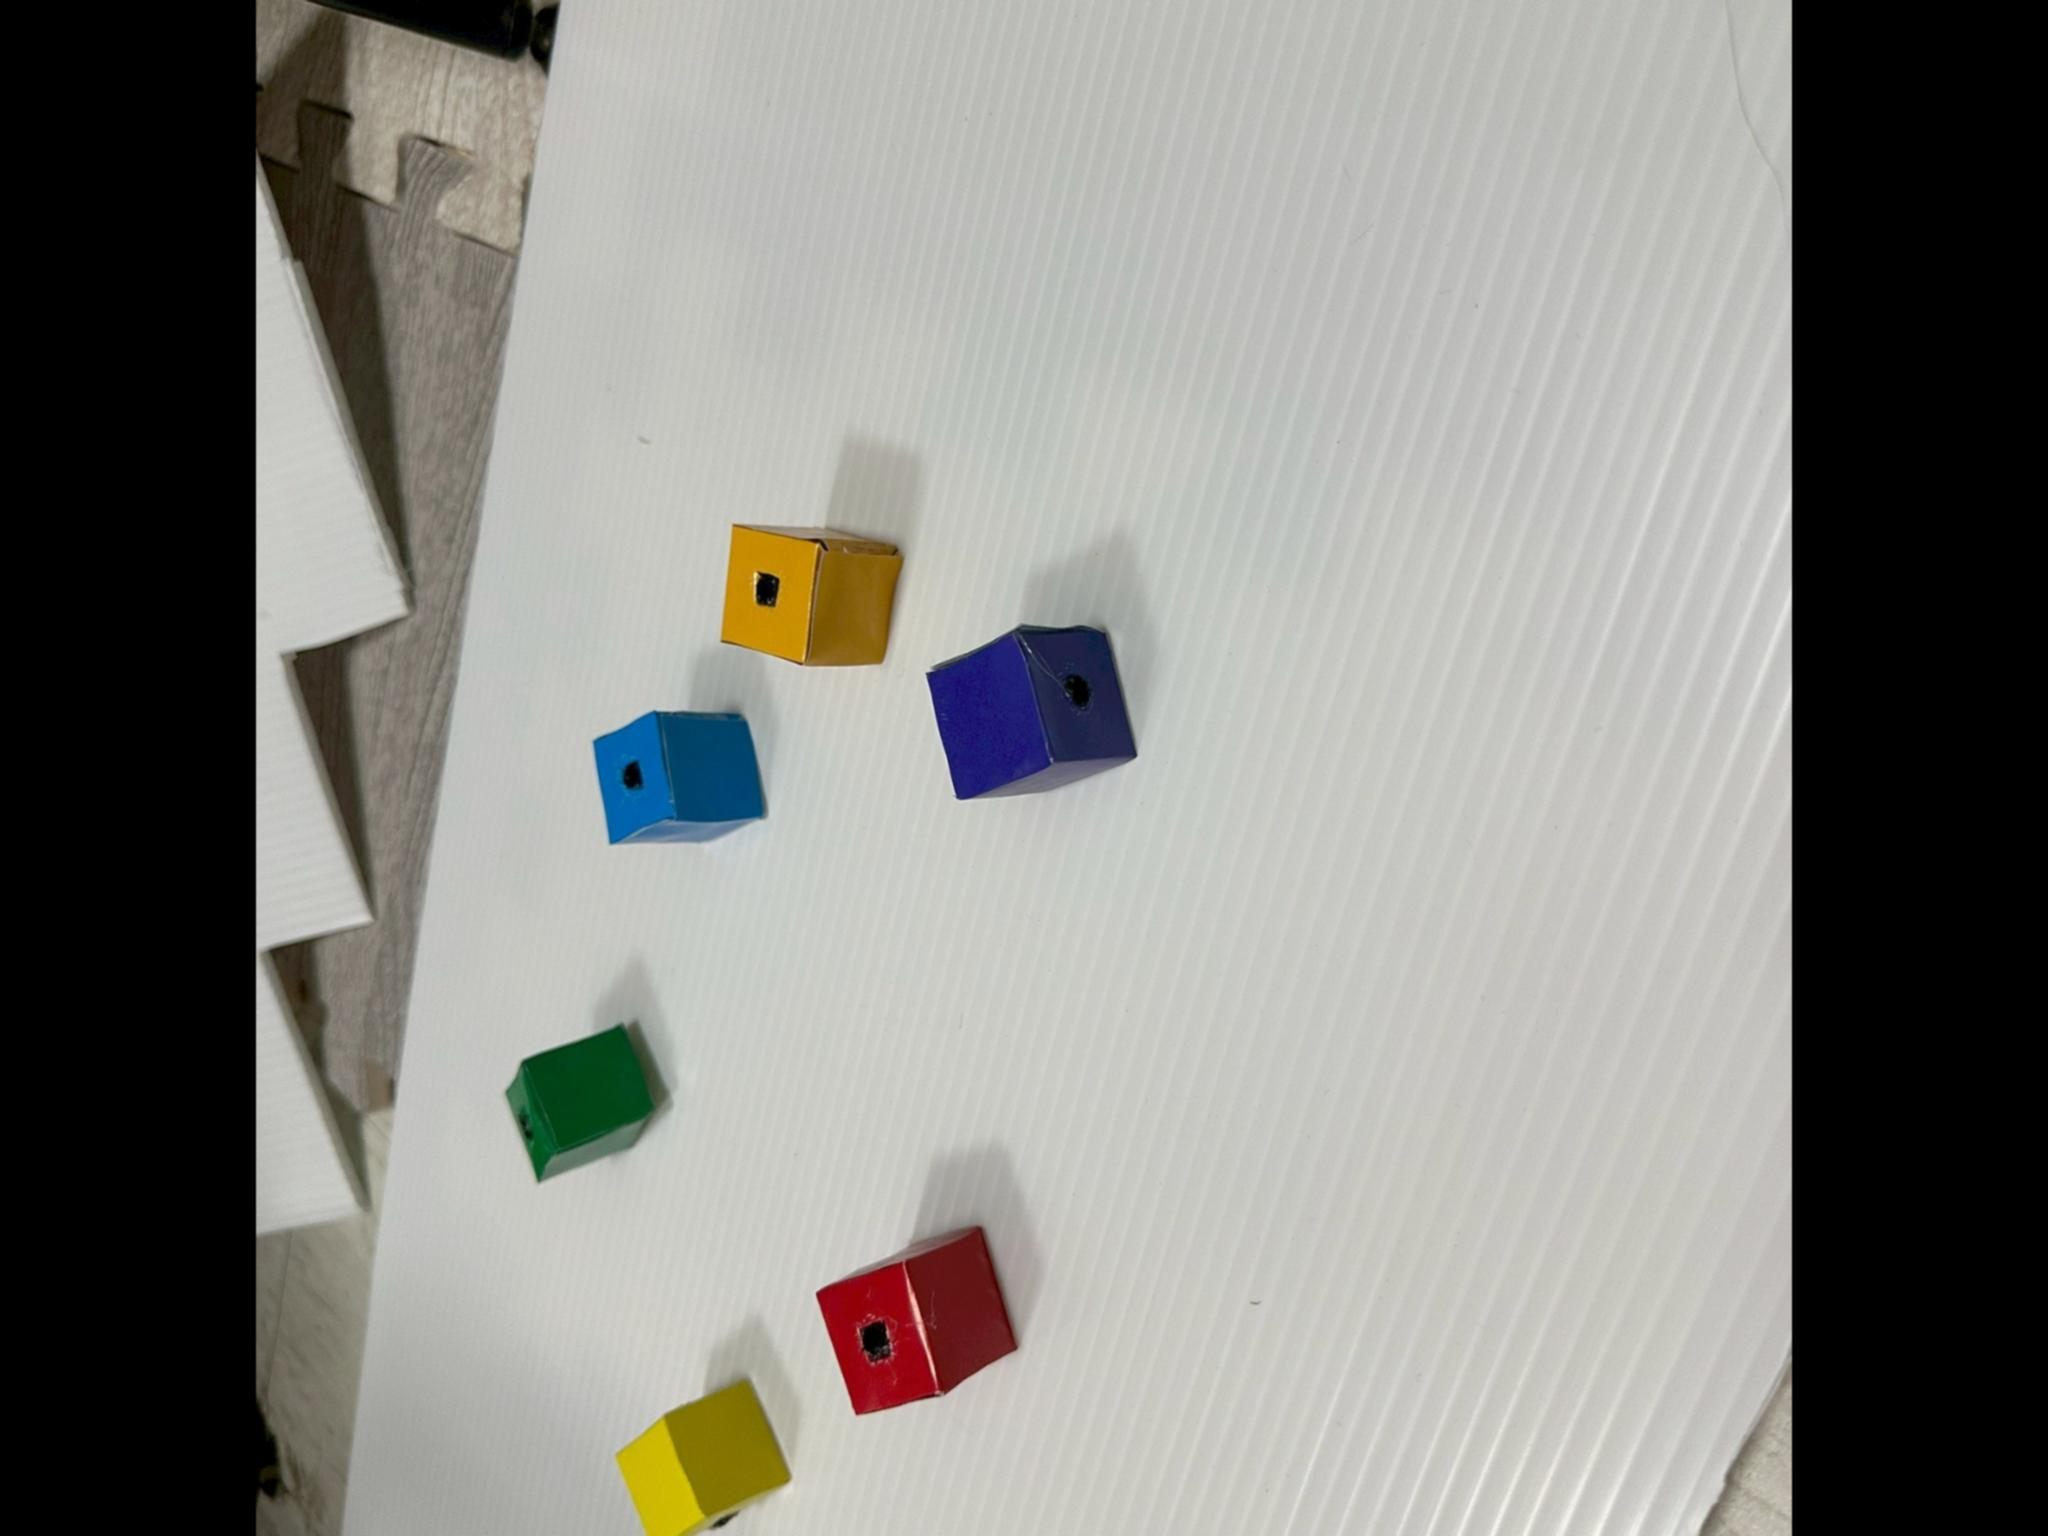base: (818, 1228, 1016, 1412), (927, 624, 1135, 797), (618, 1383, 789, 1536), (721, 524, 901, 666), (505, 1025, 653, 1181), (593, 712, 764, 844)
